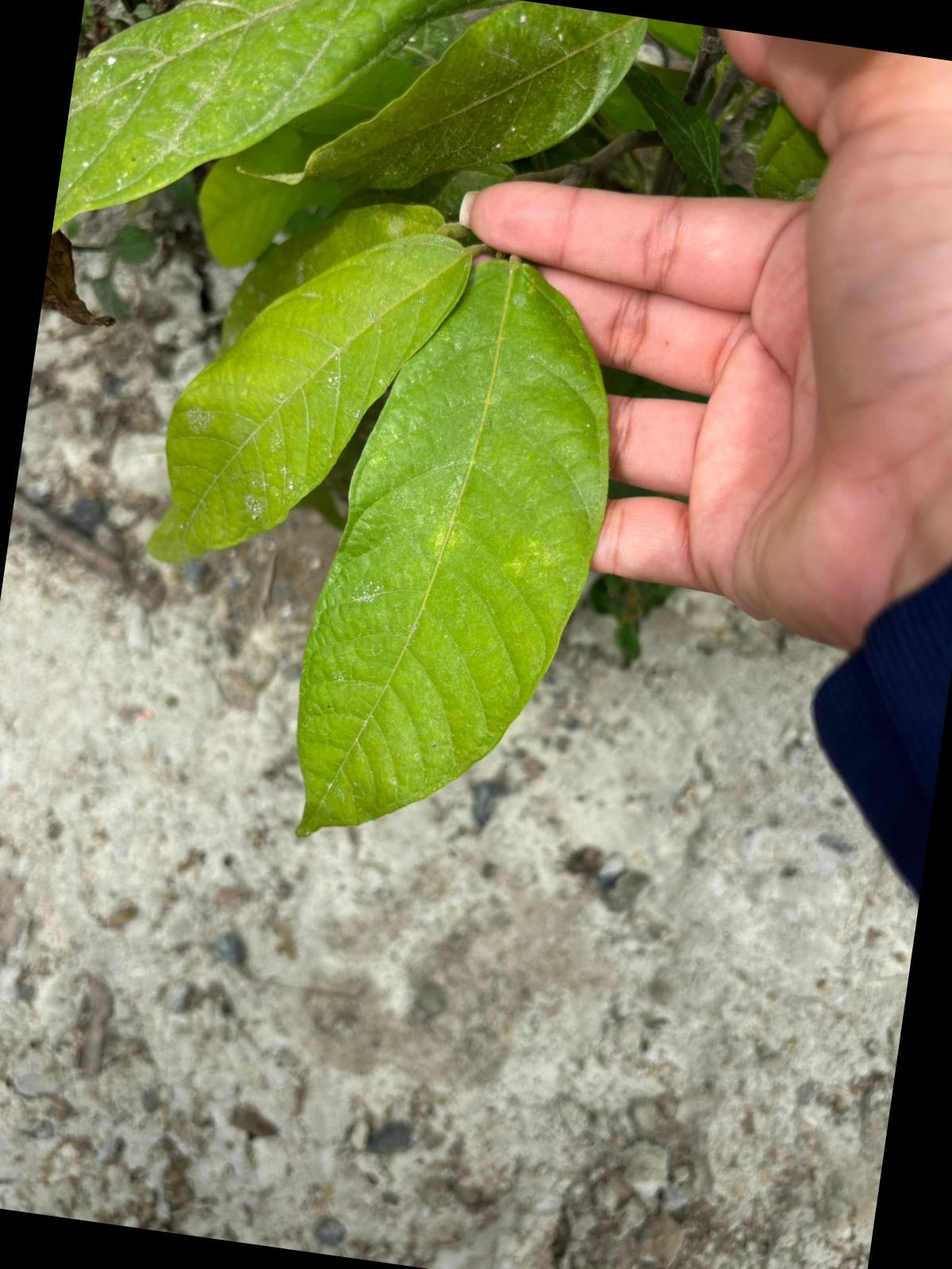Nitrogeno: (162, 234, 471, 560)
